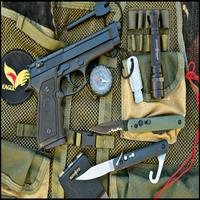knife: (72, 139, 172, 187), (83, 109, 193, 137)
